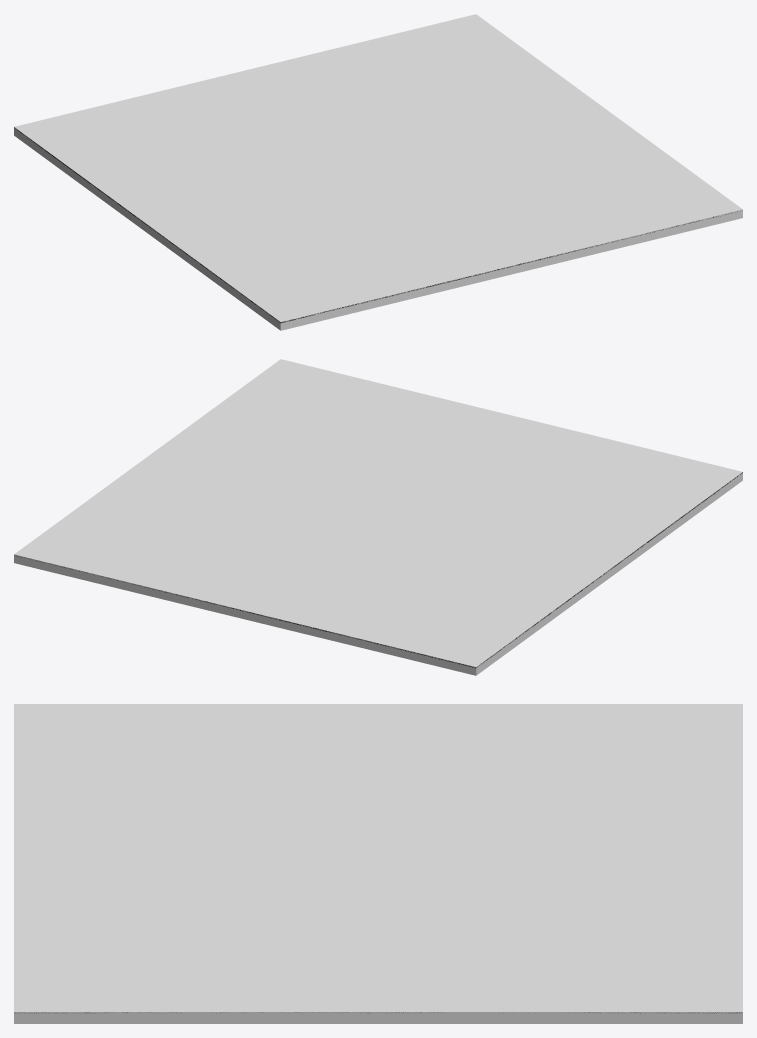
The model's file is env-ground-a.glb.
3 renders of one model, top to bottom at view 1: azimuth 30°, elevation 25°; view 2: azimuth 150°, elevation 25°; view 3: azimuth 270°, elevation 25°, orthographic. The views are drawn at different scales.
Visible parts, largest first — view 1: COL_ground, VIS_cobble_field; view 2: COL_ground, VIS_cobble_field; view 3: COL_ground.
Part boxes in pixels (<box>): COL_ground: <box>14,14,742,330</box>; VIS_cobble_field: <box>14,127,737,323</box>; COL_ground: <box>14,359,742,675</box>; VIS_cobble_field: <box>16,472,742,668</box>; COL_ground: <box>14,704,742,1023</box>.
Size of the model in its own units: 27.8 by 0.5 by 27.8.
Materials: 1 (1 with a texture image).
